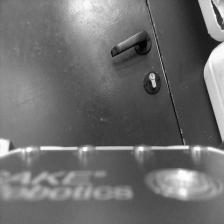Door Handle: (110, 29, 153, 58)
Lock: (143, 71, 162, 95)
